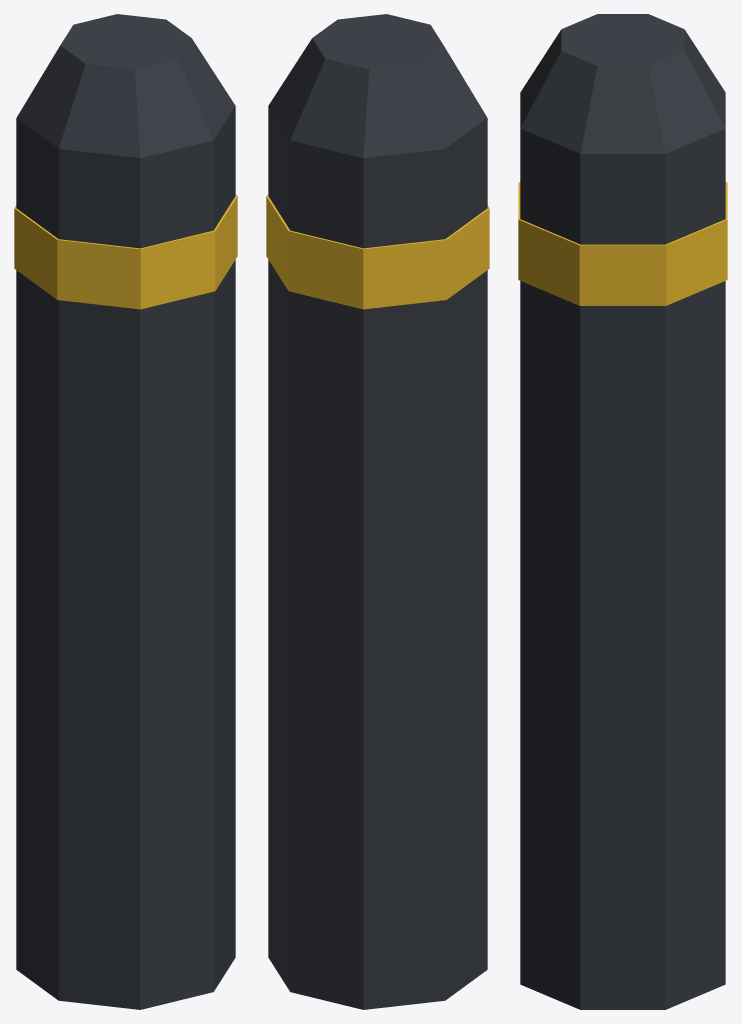
Rendered from bollard.glb.
3 renders of one model, left to right at view 1: azimuth 30°, elevation 25°; view 2: azimuth 150°, elevation 25°; view 3: azimuth 270°, elevation 25°, orthographic.
Visible parts, largest first — view 1: bollard; view 2: bollard; view 3: bollard.
Part boxes in pixels (x1,y1,x2,y2): bollard: (14, 14, 237, 1009); bollard: (266, 14, 489, 1009); bollard: (518, 14, 727, 1009).
Bounding box in the file's own units: 0.1885 × 0.92 × 0.1885.
